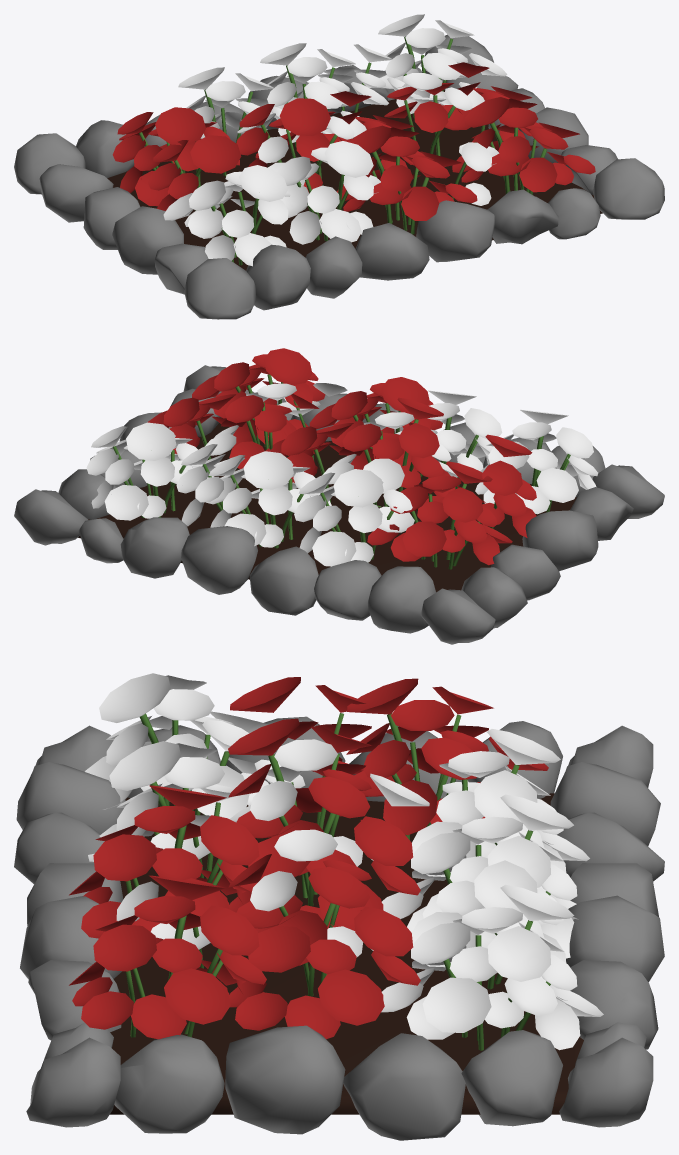
Rendered from SM_flowerbed_02_preset.fbx.
3 renders of one model, top to bottom at view 1: azimuth 30°, elevation 25°; view 2: azimuth 150°, elevation 25°; view 3: azimuth 270°, elevation 25°, orthographic. The views are drawn at different scales.
Parts seen in each view (by area): view 1: Box045; view 2: Box045; view 3: Box045.
Boxes of the visible parts, x1=… form: Box045: x1=14, y1=14, x2=664, y2=319; Box045: x1=14, y1=348, x2=664, y2=644; Box045: x1=14, y1=673, x2=664, y2=1140.
Bounding box in the file's own units: 80.39 × 21.81 × 60.8.
